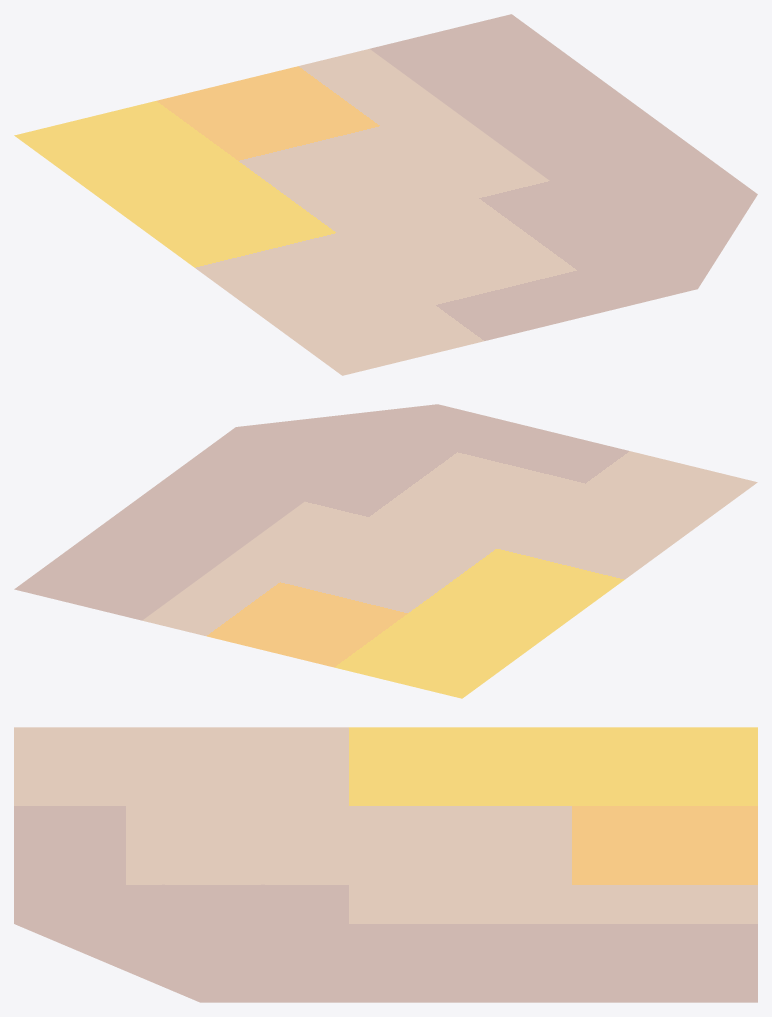
The picture shows the model from 3 angles, top to bottom: view 1: azimuth 30°, elevation 25°; view 2: azimuth 150°, elevation 25°; view 3: azimuth 270°, elevation 25°; orthographic projection. The views are drawn at different scales.
Bounding box in the file's own units: 0.875 × 0 × 1.
Materials: 1 (1 with a texture image).
